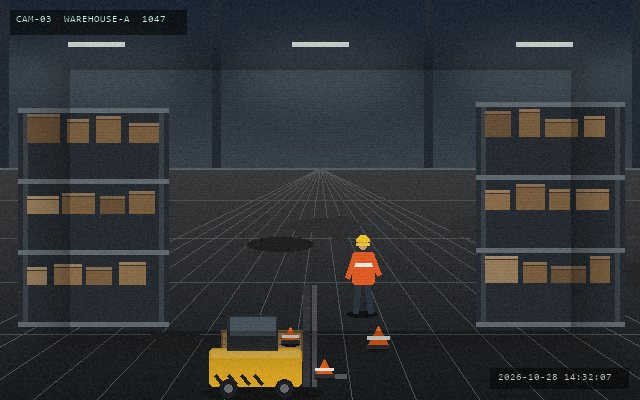cone: (365, 324, 391, 351), (313, 357, 335, 380), (280, 325, 300, 346)
forklift: (205, 282, 348, 399)
pallet: (219, 328, 304, 363)
person: (345, 233, 381, 316)
shelf: (476, 102, 624, 322), (18, 108, 168, 322)
